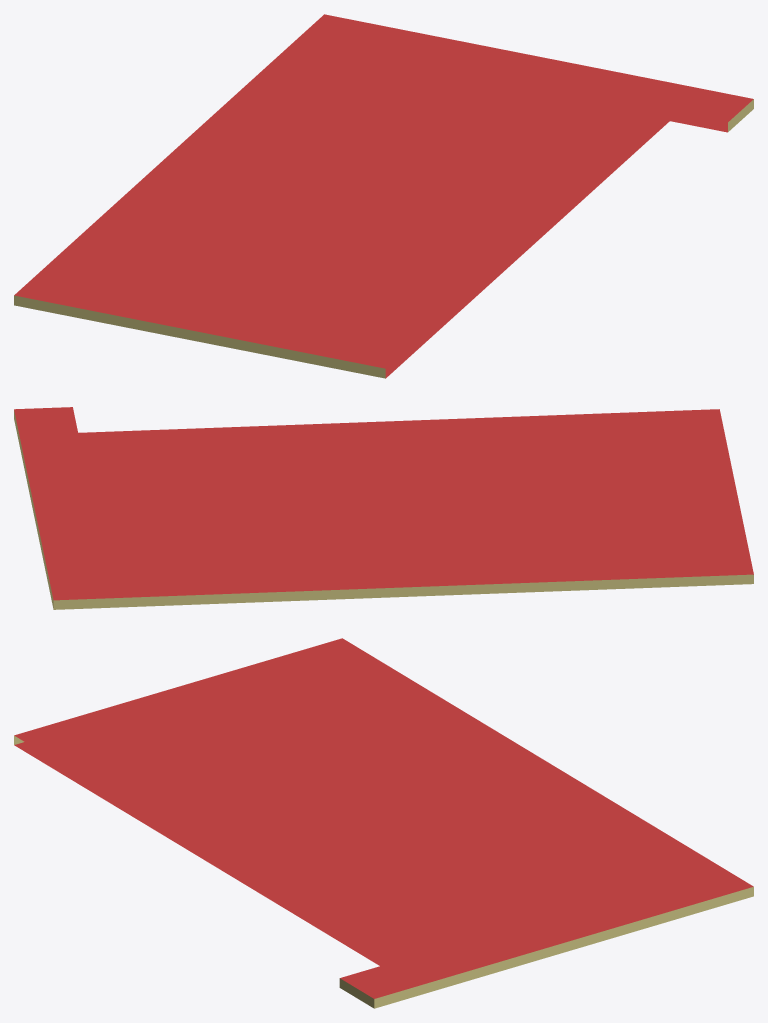
The picture shows the model from 3 angles, top to bottom: view 1: azimuth 30°, elevation 25°; view 2: azimuth 150°, elevation 25°; view 3: azimuth 270°, elevation 25°; orthographic projection. The views are drawn at different scales.
Bounding box in the file's own units: 7.96 × 6.9 × 0.1.
